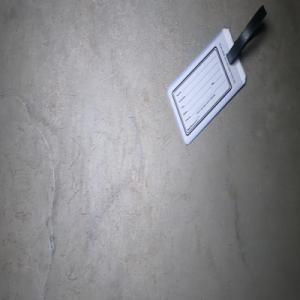LuggageTag: (165, 2, 267, 147)
